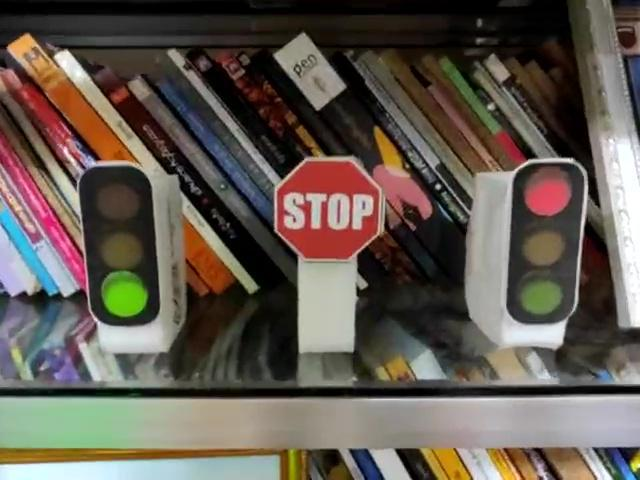Green Traffic Light: (77, 160, 163, 327)
Red Traffic Light: (505, 157, 588, 326)
Stop Sign: (273, 156, 386, 262)
